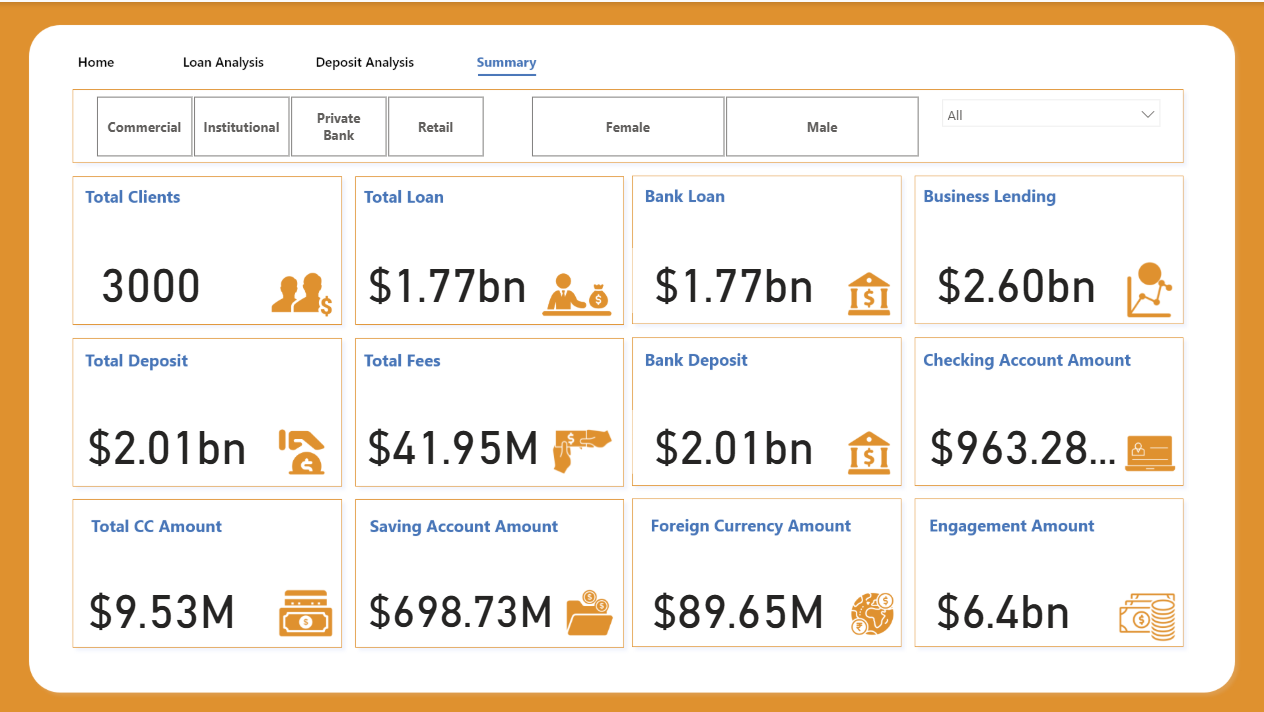

What the dashboard file says about the page in this screenshot:
{"tool":"powerbi","page":{"name":"Summary","canvas":[1280,720],"ordinal":3},"visuals":[{"type":"actionButton","box":[50.7,39.9,99.9,39.9],"z":0},{"type":"actionButton","box":[311.9,39.9,116.8,39.9],"z":1000},{"type":"actionButton","box":[450.1,39.9,116.8,39.9],"z":2000},{"type":"actionButton","box":[176.7,39.9,99.9,39.9],"z":3000},{"type":"actionButton","box":[53.3,44,99.9,39.9],"z":4000},{"type":"actionButton","box":[314.4,44,116.8,39.9],"z":5000},{"type":"actionButton","box":[452.7,44,116.8,39.9],"z":6000},{"type":"actionButton","box":[164.4,44.6,99.9,39.9],"z":7000},{"type":"slicer","fields":{"Values":["Banking.BRId"]},"box":[78.4,92.2,430.2,66.1],"z":8000},{"type":"slicer","fields":{"Values":["Banking.GenderId"]},"box":[517.7,92.2,430.2,66.1],"z":9000},{"type":"slicer","fields":{"Values":["Banking.IAId"]},"box":[947.9,92.2,230.4,66.1],"z":10000},{"type":"card","fields":{"Values":["CountNonNull(Banking.Name)"]},"box":[78.4,248.9,150.6,64.5],"z":11000},{"type":"card","fields":{"Values":["Banking.Total Loan"]},"box":[366.5,248.5,173.5,65.2],"z":12000},{"type":"card","fields":{"Values":["Banking.Total Deposit"]},"box":[77.7,412.3,186,63.9],"z":13000},{"type":"card","fields":{"Values":["Banking.Total Fees"]},"box":[366.5,412.3,184.6,63.9],"z":14000},{"type":"card","fields":{"Values":["Banking.Total Credit Card Amount"]},"box":[81.4,577.7,165.9,64.5],"z":15000},{"type":"card","fields":{"Values":["Banking.Total Saving Amount"]},"box":[366.5,577.5,199.9,65.2],"z":16000},{"type":"card","fields":{"Values":["Sum(Banking.Foreign Currency Account)"]},"box":[649.7,577.5,194.3,65.2],"z":17000},{"type":"card","fields":{"Values":["Banking.Total Deposit"]},"box":[640,412.3,204.1,63.9],"z":18000},{"type":"card","fields":{"Values":["Banking.Total Bank Loan"]},"box":[640,248.5,204.1,65.2],"z":19000},{"type":"card","fields":{"Values":["Banking.Engagement Amount"]},"box":[931,577.7,165.9,64.5],"z":20000},{"type":"card","fields":{"Values":["Sum(Banking.Checking Accounts)"]},"box":[931.5,412.3,205.5,63.9],"z":21000},{"type":"card","fields":{"Values":["Sum(Banking.Business Lending)"]},"box":[931.5,248.5,193,65.2],"z":22000}]}

Visuals, with their boxes in screenshot pixels (x1, y1, x2, y2), scaled from the page's 1280x720 canvas onto the 1264x712 screenshot:
actionButton: rect(50, 39, 149, 79)
actionButton: rect(308, 39, 423, 79)
actionButton: rect(444, 39, 560, 79)
actionButton: rect(174, 39, 273, 79)
actionButton: rect(53, 44, 151, 83)
actionButton: rect(310, 44, 426, 83)
actionButton: rect(447, 44, 562, 83)
actionButton: rect(162, 44, 261, 84)
slicer - Banking.BRId: rect(77, 91, 502, 157)
slicer - Banking.GenderId: rect(511, 91, 936, 157)
slicer - Banking.IAId: rect(936, 91, 1164, 157)
card - CountNonNull(Banking.Name): rect(77, 246, 226, 310)
card - Banking.Total Loan: rect(362, 246, 533, 310)
card - Banking.Total Deposit: rect(77, 408, 260, 471)
card - Banking.Total Fees: rect(362, 408, 544, 471)
card - Banking.Total Credit Card Amount: rect(80, 571, 244, 635)
card - Banking.Total Saving Amount: rect(362, 571, 559, 636)
card - Sum(Banking.Foreign Currency Account): rect(642, 571, 833, 636)
card - Banking.Total Deposit: rect(632, 408, 834, 471)
card - Banking.Total Bank Loan: rect(632, 246, 834, 310)
card - Banking.Engagement Amount: rect(919, 571, 1083, 635)
card - Sum(Banking.Checking Accounts): rect(920, 408, 1123, 471)
card - Sum(Banking.Business Lending): rect(920, 246, 1110, 310)
